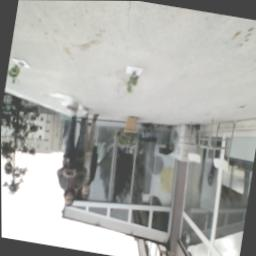herb: (124, 70, 141, 97)
